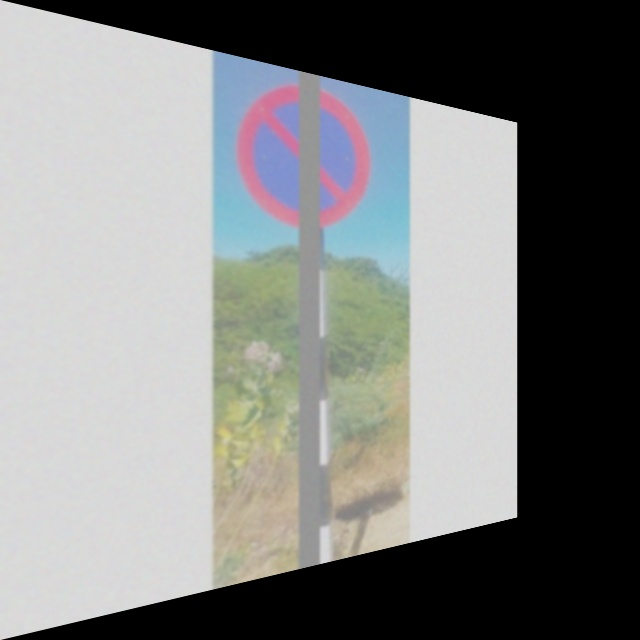No_Stopping_or_Standing: (244, 72, 365, 232)
